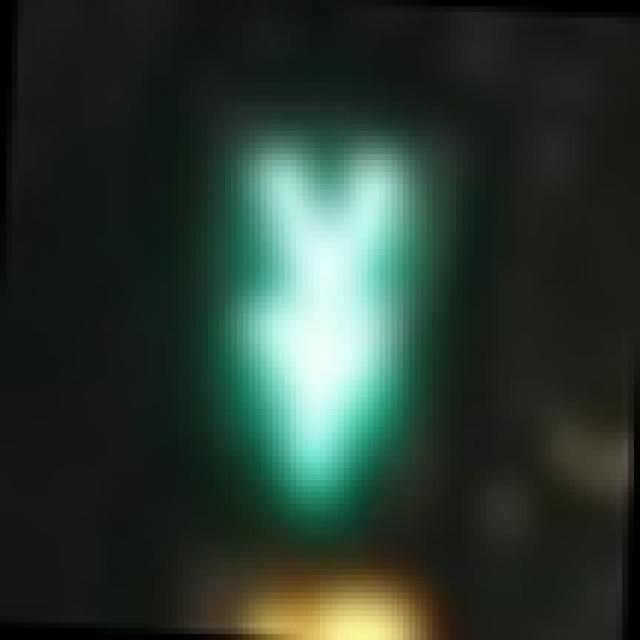geen-crossing: (136, 89, 486, 534)
